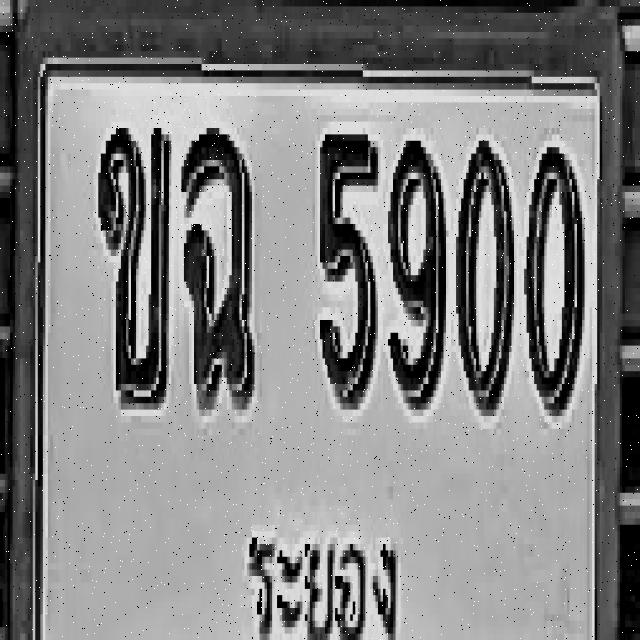0: (524, 138, 584, 412), (455, 134, 513, 416)
11KhorKhai: (97, 125, 170, 406)
18ChorChing: (180, 125, 256, 406)
5: (318, 128, 376, 410)
9: (388, 134, 446, 410)
Rayong: (238, 514, 408, 640)
